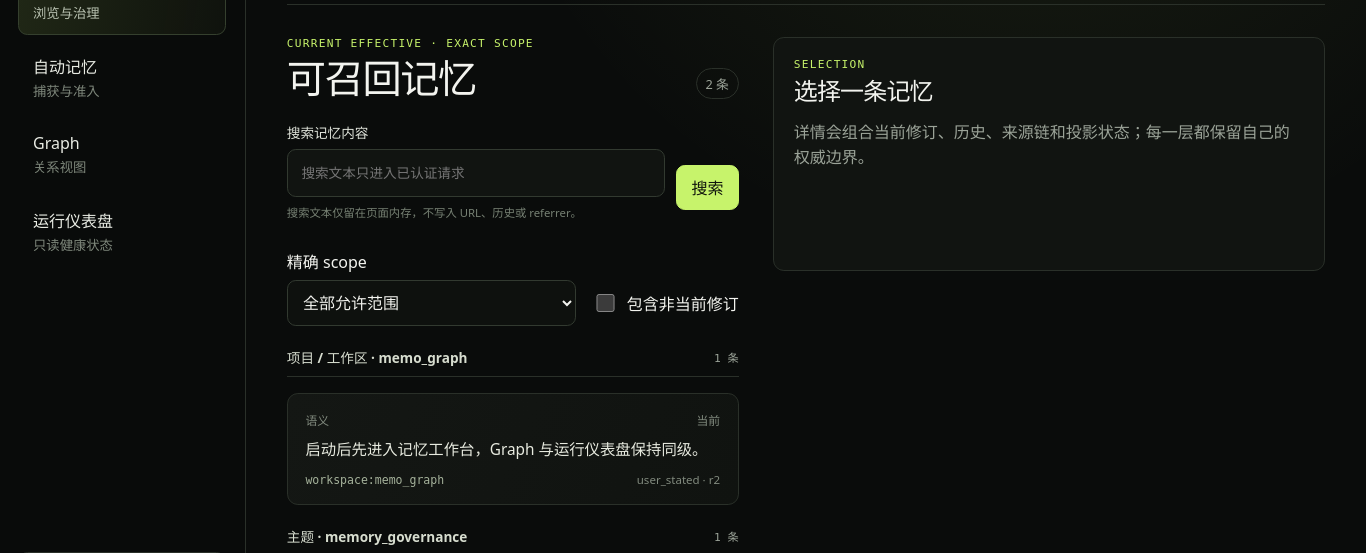
Test: bounded accessible Graph explorer › selects a governed center, renders a read-only canvas, and mirrors it semantically
Click the link "Graph 关系视图": (60, 154) left=33, top=132, right=86, bottom=176
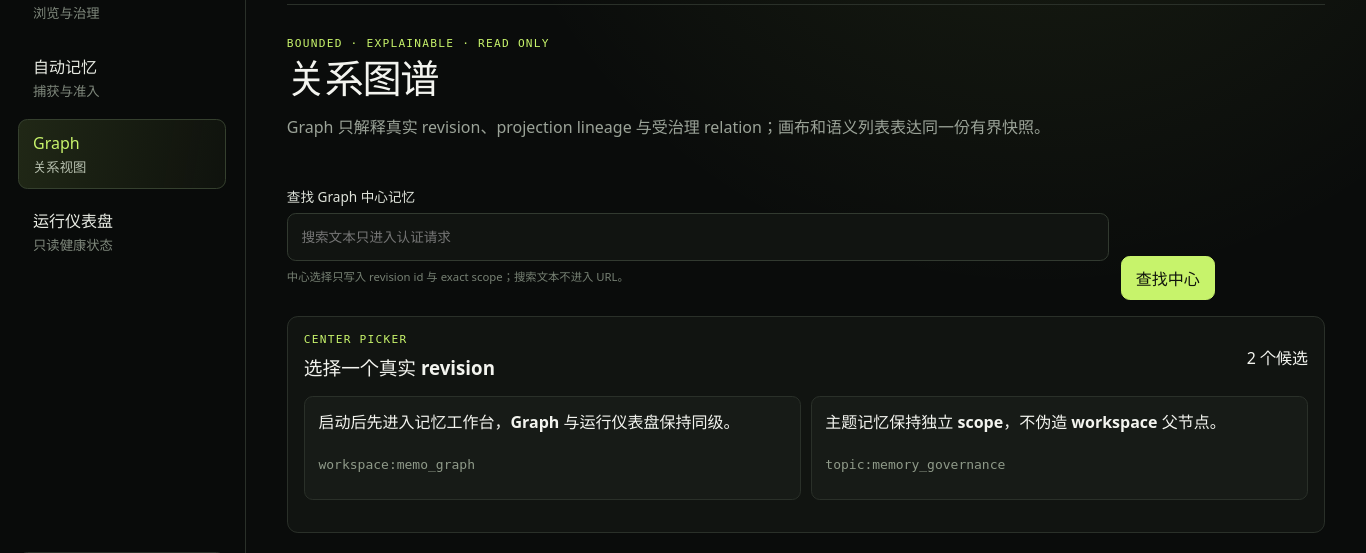
Check: the heading "选择一个真实 revision" is shown, box left=304, top=353, right=495, bottom=380
Click the button "启动后先进入记忆工作台，Graph 与运行仪表盘保持同级。 workspace:memo_graph": (529, 422) left=304, top=396, right=801, bottom=500
(page scrolled)
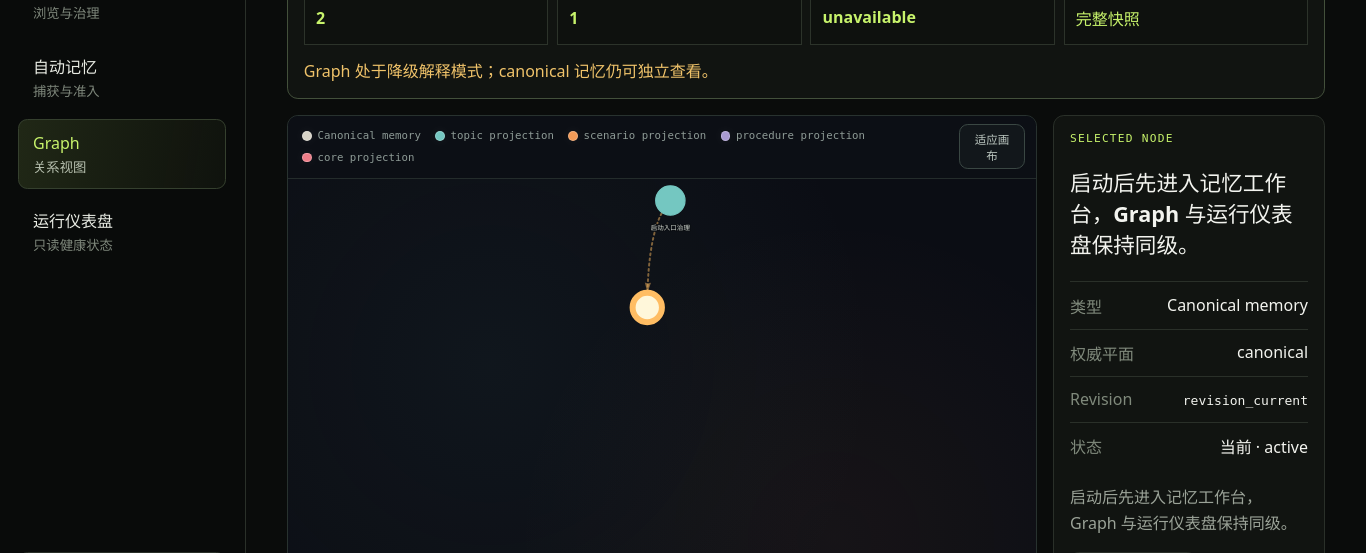
Check: the text "Graph 处于降级解释模式；canonical 记忆仍可独立查看。" is shown, box left=304, top=60, right=718, bottom=82
Check: the text "unavailable" is shown, box left=822, top=6, right=916, bottom=28
Check: the drawing is shown, box left=288, top=179, right=1036, bottom=329
